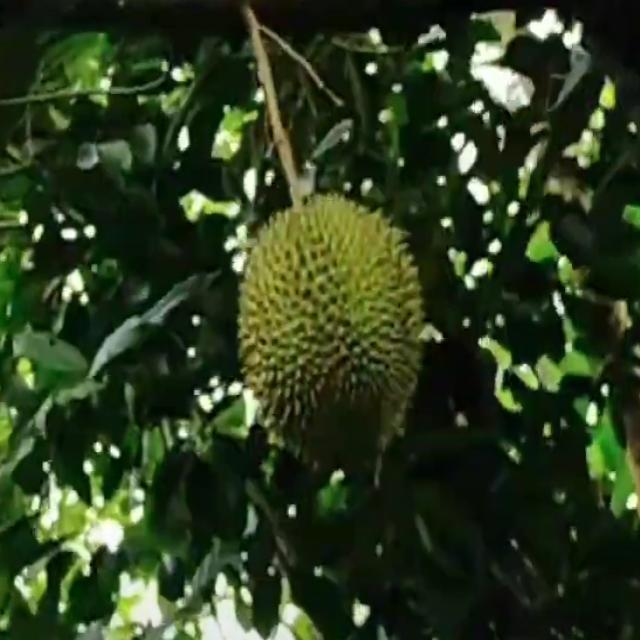immature: (239, 188, 421, 474)
